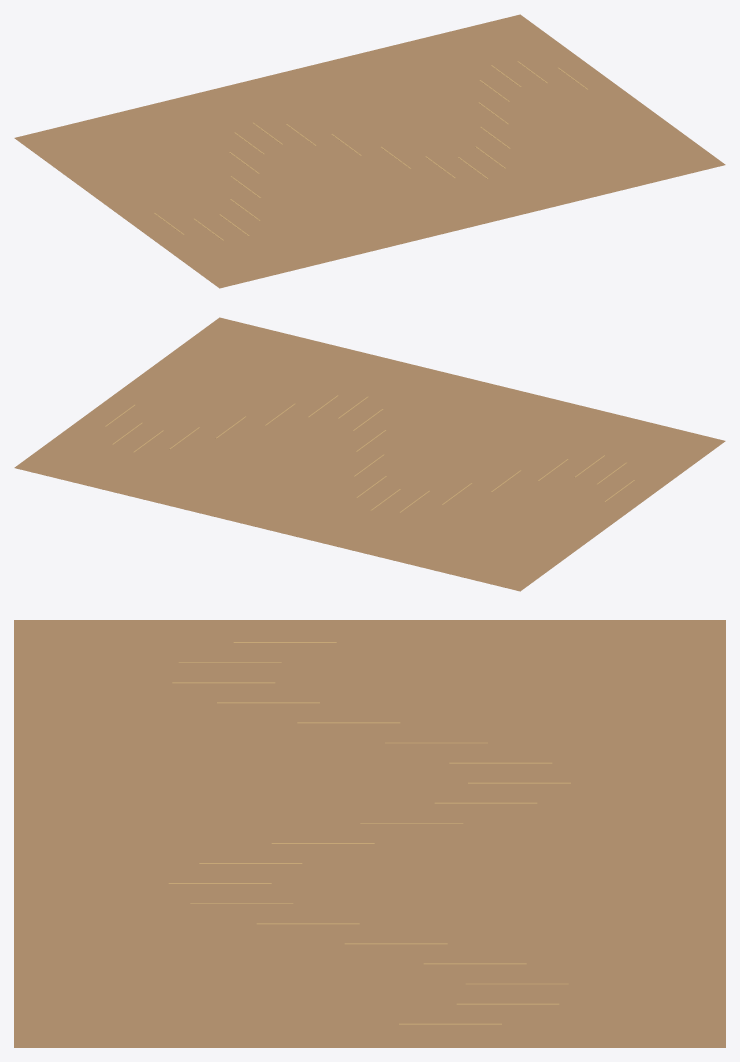
The model's file is 238_L118_L1_LayerReference.glb.
3 renders of one model, top to bottom at view 1: azimuth 30°, elevation 25°; view 2: azimuth 150°, elevation 25°; view 3: azimuth 270°, elevation 25°, orthographic. The views are drawn at different scales.
Visible parts, largest first — view 1: 0000__PSMAT__copper_dark; view 2: 0000__PSMAT__copper_dark; view 3: 0000__PSMAT__copper_dark.
Boxes of the visible parts, x1=… form: 0000__PSMAT__copper_dark: x1=14, y1=14, x2=725, y2=288; 0000__PSMAT__copper_dark: x1=14, y1=317, x2=725, y2=591; 0000__PSMAT__copper_dark: x1=14, y1=620, x2=725, y2=1047.
Bounding box in the file's own units: 0.472 × 0.000564 × 0.332.
